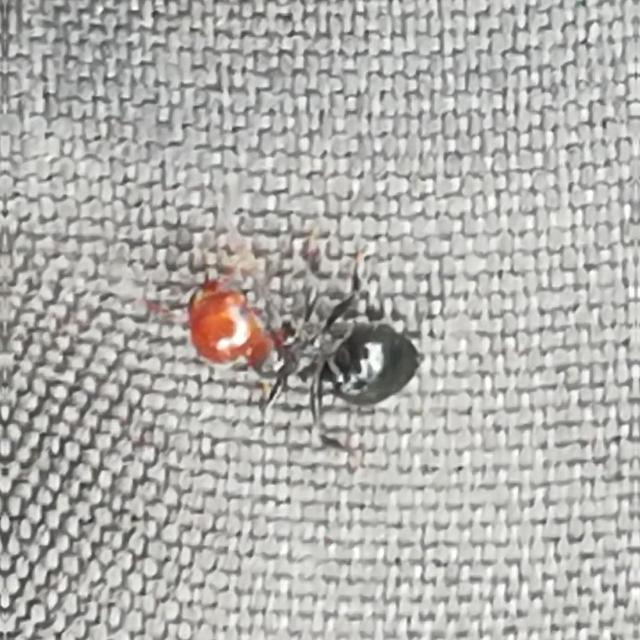Crematogaster: (177, 276, 431, 429)
